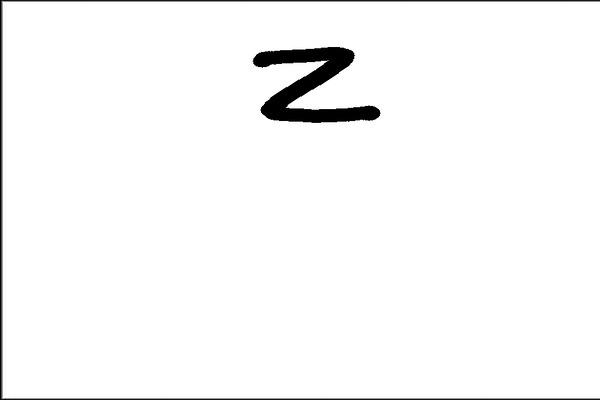Z: (244, 33, 391, 133)
